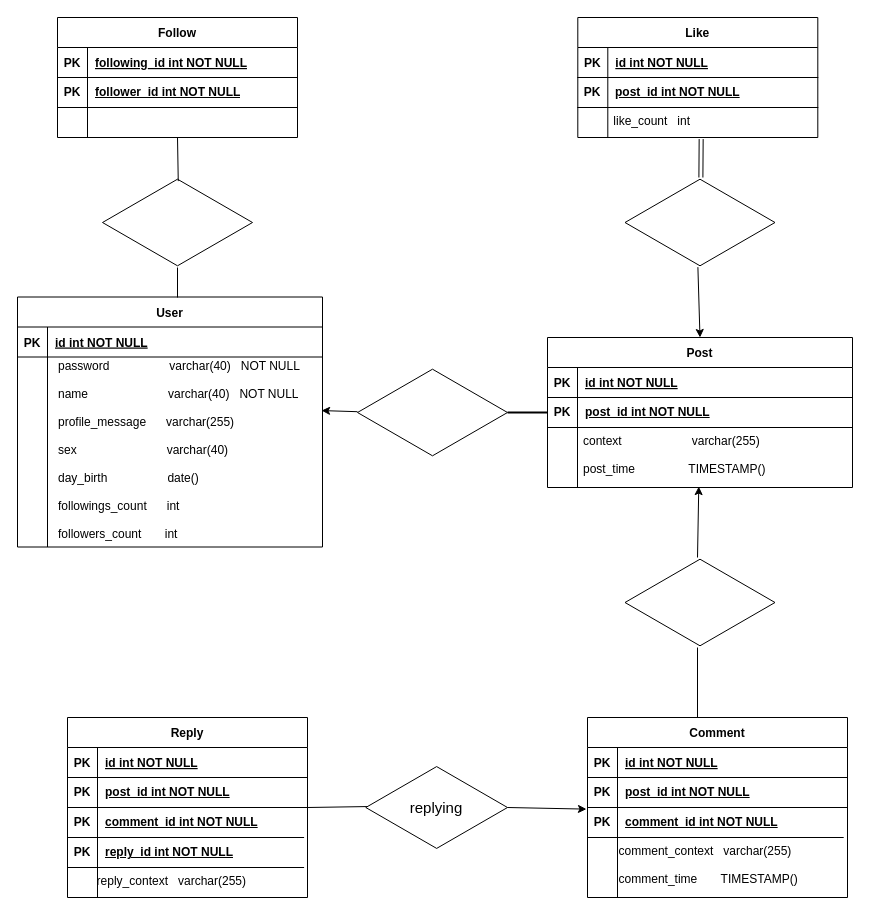
This 870x916 diagram has some shape labels left out. Here are the shapes that lost their labels. From the top down, the box of each, then its label:
(102, 176, 252, 268): following
(624, 176, 775, 268): liking
(356, 366, 508, 458): posting
(624, 556, 775, 648): commenting
